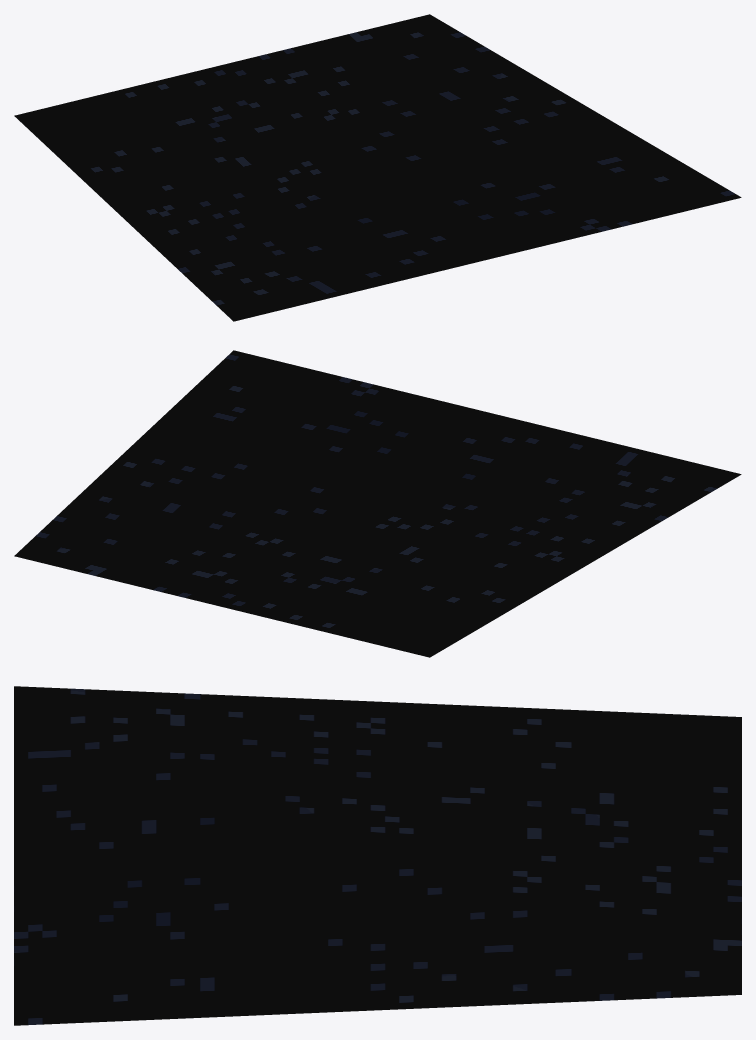
File: pages.glb
3 views of the same model, one above another, from view 1: azimuth 30°, elevation 25°; view 2: azimuth 150°, elevation 25°; view 3: azimuth 270°, elevation 25° (orthographic). The views are drawn at different scales.
Visible parts, largest first — view 1: Page; view 2: Page; view 3: Page.
Part boxes in pixels (x1,y1,x2,y2): Page: [14, 14, 741, 321]; Page: [14, 350, 741, 657]; Page: [14, 686, 741, 1025].
Bounding box in the file's own units: 2.2 × 0 × 1.99.
1 material, 1 textured.
